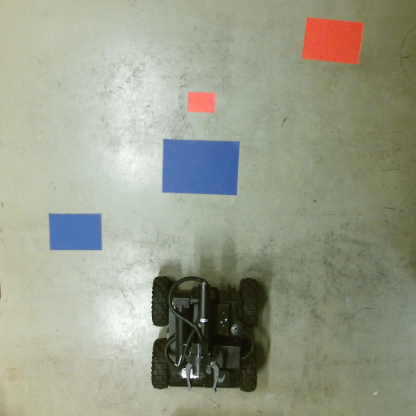Blue: (160, 137, 241, 199), (48, 212, 105, 254)
Jaguar: (147, 275, 264, 394)
Red: (300, 15, 366, 66), (184, 90, 216, 113)
